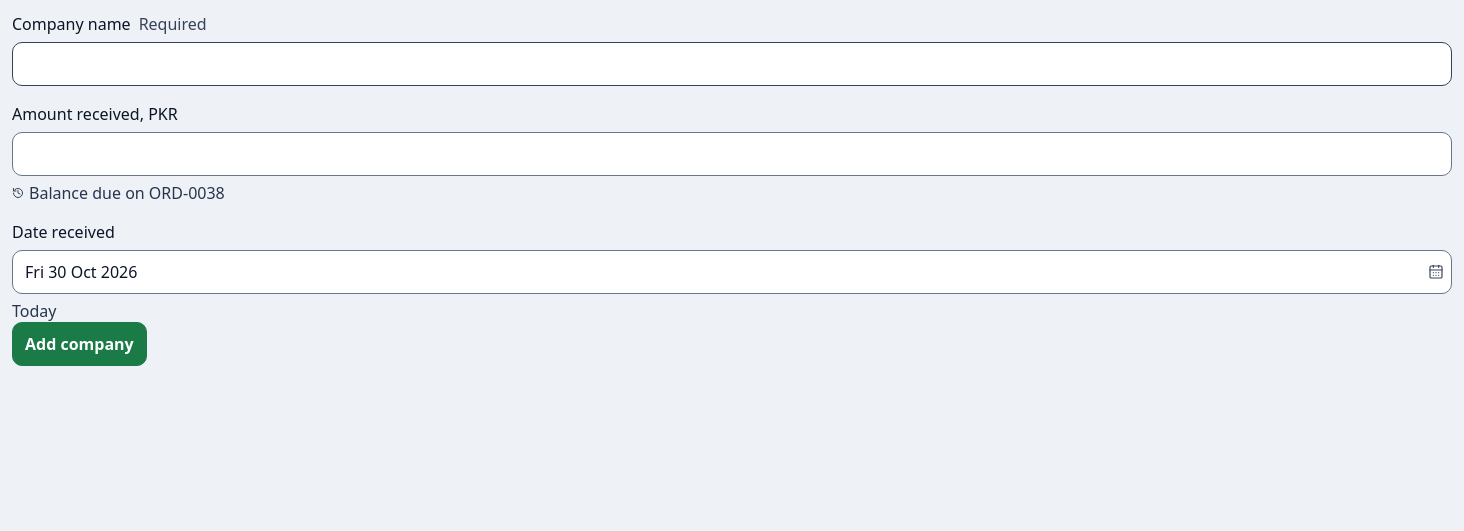
Scenario: Form (U07): errors keep the entries and speak plainly › validation: summarises once at the top, each field says what to enter, focus goes to the first
Click the button "Add company".
click(79, 344)  # box [12,322,147,366]
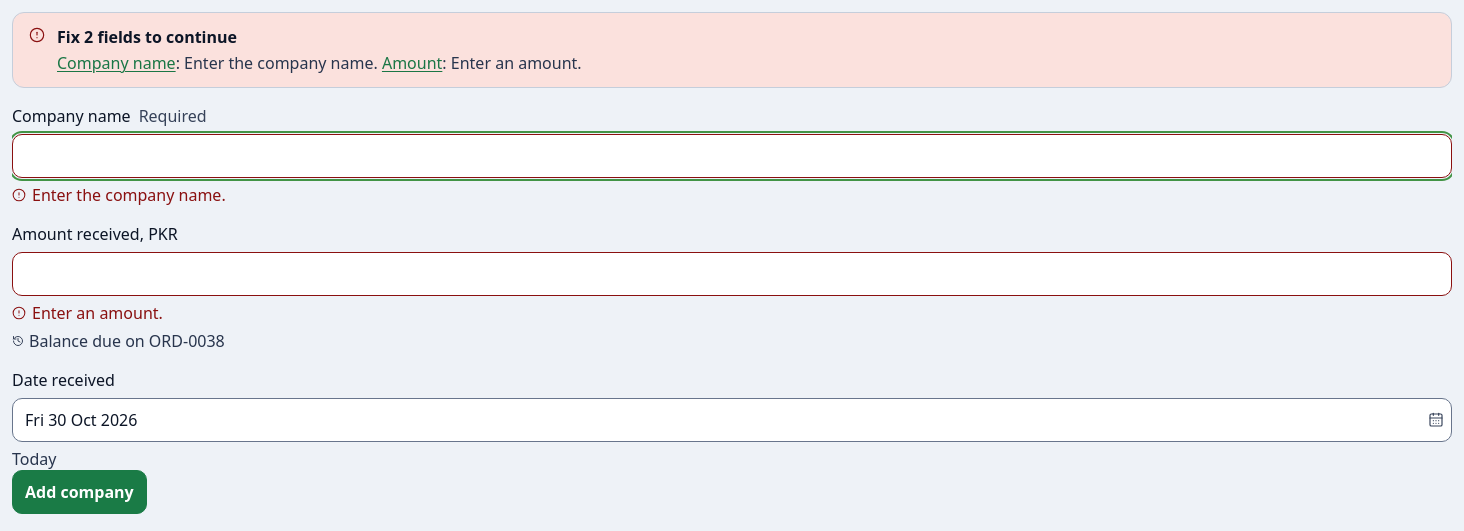
expect the text "Fix 2 fields to continue" is shown: met, box [57,26,237,48]
expect the text "Enter the company name." is shown: met, box [32,184,226,206]
